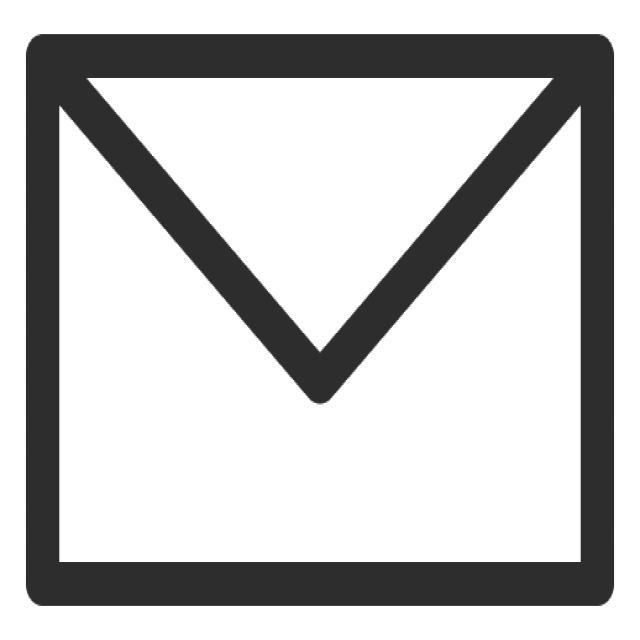letter: (19, 17, 628, 617)
